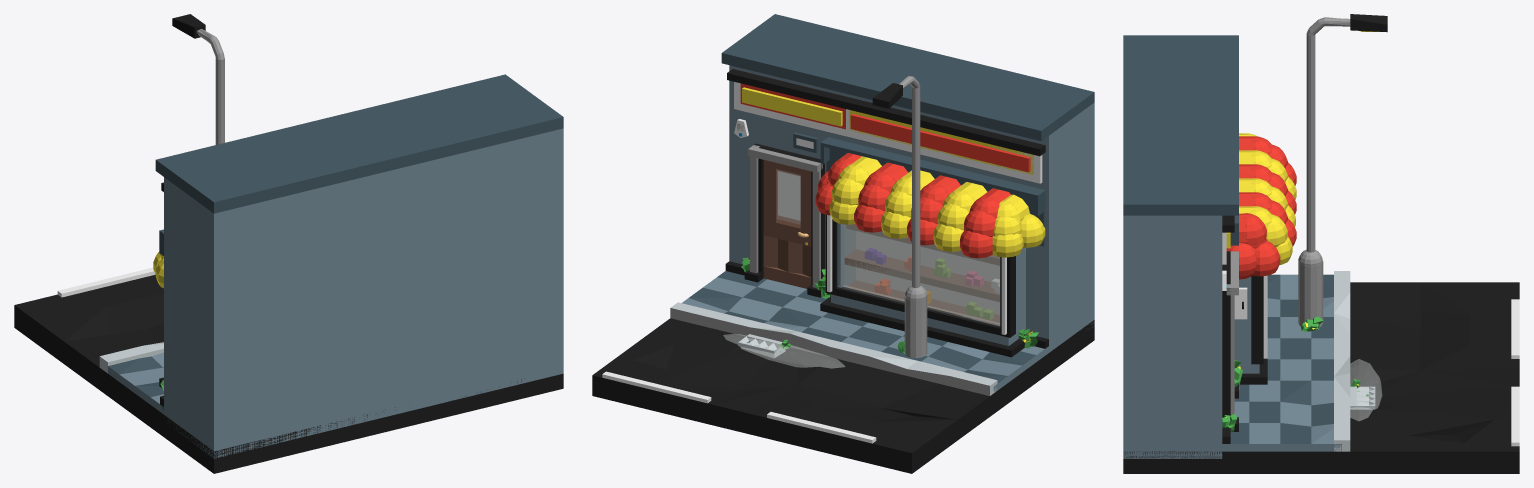
File: shop.glb
The picture shows the model from 3 angles, left to right: view 1: azimuth 30°, elevation 25°; view 2: azimuth 150°, elevation 25°; view 3: azimuth 270°, elevation 25°; orthographic projection. The views are drawn at different scales.
Parts seen in each view (by area): view 1: group95170792_f86035, group1044749236, group95601549, group1678097936, group1563775249_7e2290, group1563775249_3b40bc, group1565572875, group304421609; view 2: group95601549, group1044749236, group95170792_f86035, group942791974, group1563775249_7e2290, group1563775249_3b40bc, group2068680559_6a6d00, group1977487980, group1870773862_6404bc, group1565572875_9860e4, group984519993, group1565572875 (+44 smaller); view 3: group95601549, group95170792_f86035, group1044749236, group1563775249_7e2290, group1563775249_3b40bc, group1565572875, group1678097936, group1211307272, group1454086830, group816141866, group330344034, group1634056452 (+11 smaller).
Boxes of the visible parts, bbox=[...] form: group95170792_f86035: bbox=[164, 128, 563, 458]; group1044749236: bbox=[155, 74, 563, 213]; group95601549: bbox=[14, 274, 563, 473]; group1678097936: bbox=[196, 29, 224, 144]; group1563775249_7e2290: bbox=[108, 352, 166, 415]; group1563775249_3b40bc: bbox=[108, 356, 163, 397]; group1565572875: bbox=[99, 342, 163, 373]; group304421609: bbox=[57, 267, 155, 297]; group95601549: bbox=[592, 318, 1094, 473]; group1044749236: bbox=[721, 14, 1094, 141]; group95170792_f86035: bbox=[729, 65, 1094, 351]; group942791974: bbox=[839, 224, 999, 326]; group1563775249_7e2290: bbox=[682, 277, 1050, 392]; group1563775249_3b40bc: bbox=[689, 271, 1036, 383]; group2068680559_6a6d00: bbox=[763, 160, 811, 288]; group1977487980: bbox=[727, 69, 1045, 156]; group1870773862_6404bc: bbox=[856, 231, 999, 314]; group1565572875_9860e4: bbox=[670, 308, 989, 395]; group984519993: bbox=[734, 82, 1042, 183]; group1565572875: bbox=[670, 302, 997, 395]; group95601549: bbox=[1123, 282, 1519, 473]; group95170792_f86035: bbox=[1123, 215, 1222, 458]; group1044749236: bbox=[1123, 35, 1238, 215]; group1563775249_7e2290: bbox=[1218, 274, 1341, 451]; group1563775249_3b40bc: bbox=[1230, 274, 1333, 443]; group1565572875: bbox=[1334, 271, 1350, 451]; group1678097936: bbox=[1306, 17, 1350, 252]; group1211307272: bbox=[1298, 261, 1323, 326]; group1454086830: bbox=[1234, 276, 1259, 373]; group816141866: bbox=[1350, 359, 1381, 420]; group330344034: bbox=[1251, 275, 1263, 364]; group1634056452: bbox=[1222, 288, 1230, 417].
Size of the model in its own units: 0.97 by 0.9 by 0.96.
